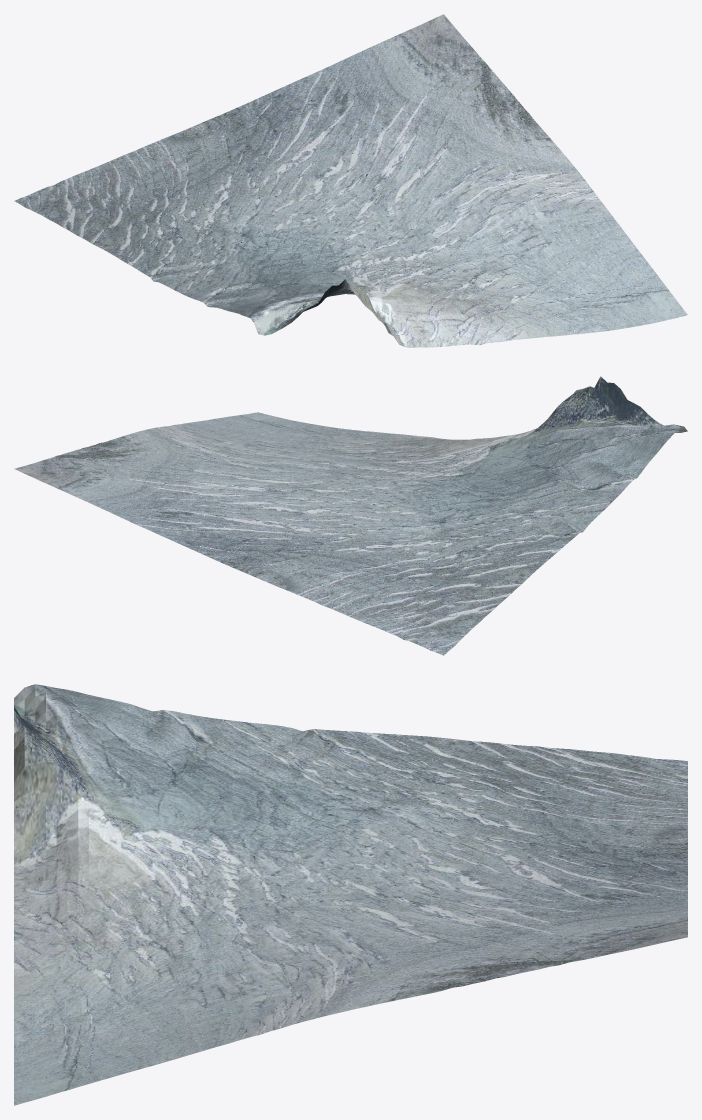
The model's file is Silv_tile_29.gltf.
The picture shows the model from 3 angles, top to bottom: view 1: azimuth 30°, elevation 25°; view 2: azimuth 150°, elevation 25°; view 3: azimuth 270°, elevation 25°; orthographic projection. The views are drawn at different scales.
Parts seen in each view (by area): view 1: 18.035; view 2: 18.035; view 3: 18.035.
Part boxes in pixels (x1=…): 18.035: x1=14, y1=14, x2=687, y2=347; 18.035: x1=14, y1=376, x2=687, y2=655; 18.035: x1=14, y1=684, x2=687, y2=1105.
Bounding box in the file's own units: 0.5 × 0.136 × 0.4922.
Materials: 1 (1 with a texture image).
